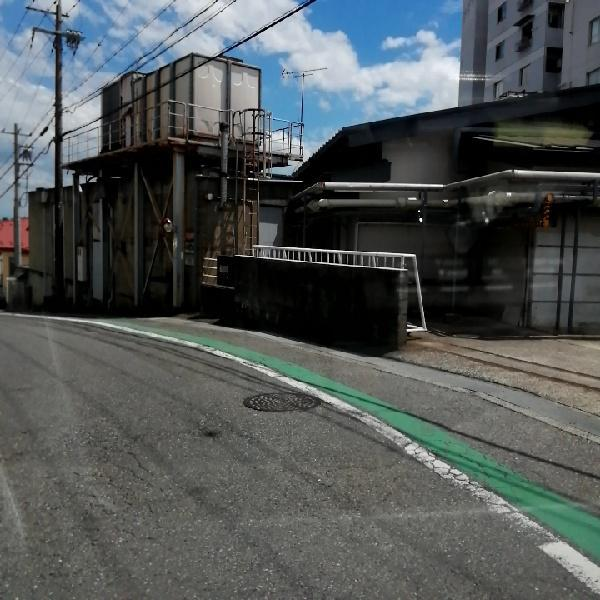D20: (18, 437, 180, 582)
D50: (242, 385, 323, 414)
